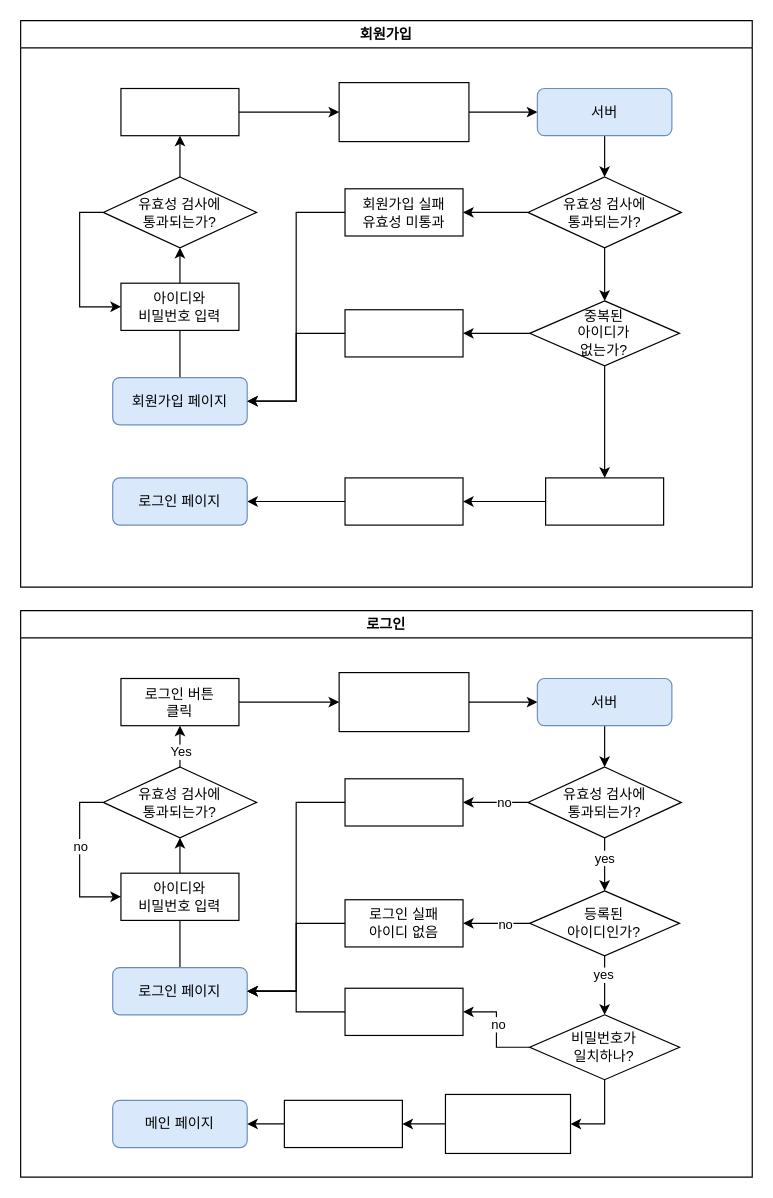
This 773x1198 diagram has some shape labels left out. The shapes that lost their labels are listed below. From the top down, each one's centre as x and y in pixels, then its label:
At pixel 179 111: "회원가입 버튼 클릭".
At pixel 403 111: "/users/new-user 회원가입 요청".
At pixel 403 333: "회원가입 실패 중복된 아이디".
At pixel 403 501: "로그인 페이지로 리다이렉트".
At pixel 604 501: "회원가입 완료 회원정보 추가".
At pixel 403 701: "/users/login 로그인 요청".
At pixel 403 802: "로그인 실패 유효성 미통과".
At pixel 403 1011: "로그인 실패 비번 틀림".
At pixel 342 1123: "메인 페이지로 리다이렉트".
At pixel 507 1123: "로그인 성공 쿠키에 인증 정보 담음".
